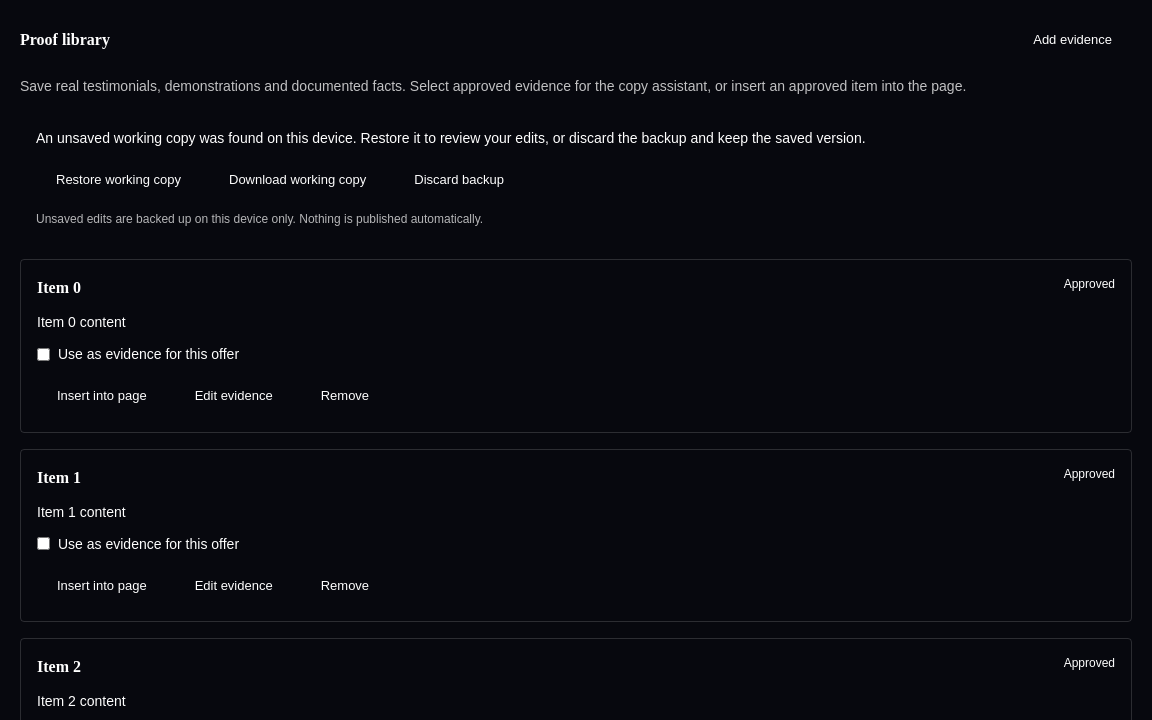
Test: proof library editing › offers recovery of unsaved evidence after remount without saving or inserting it
The width and height of the screenshot is (1152, 720).
Earlier steps of the test are not shown.
Click the button "Restore working copy" at (118, 179), box [36, 160, 201, 199]
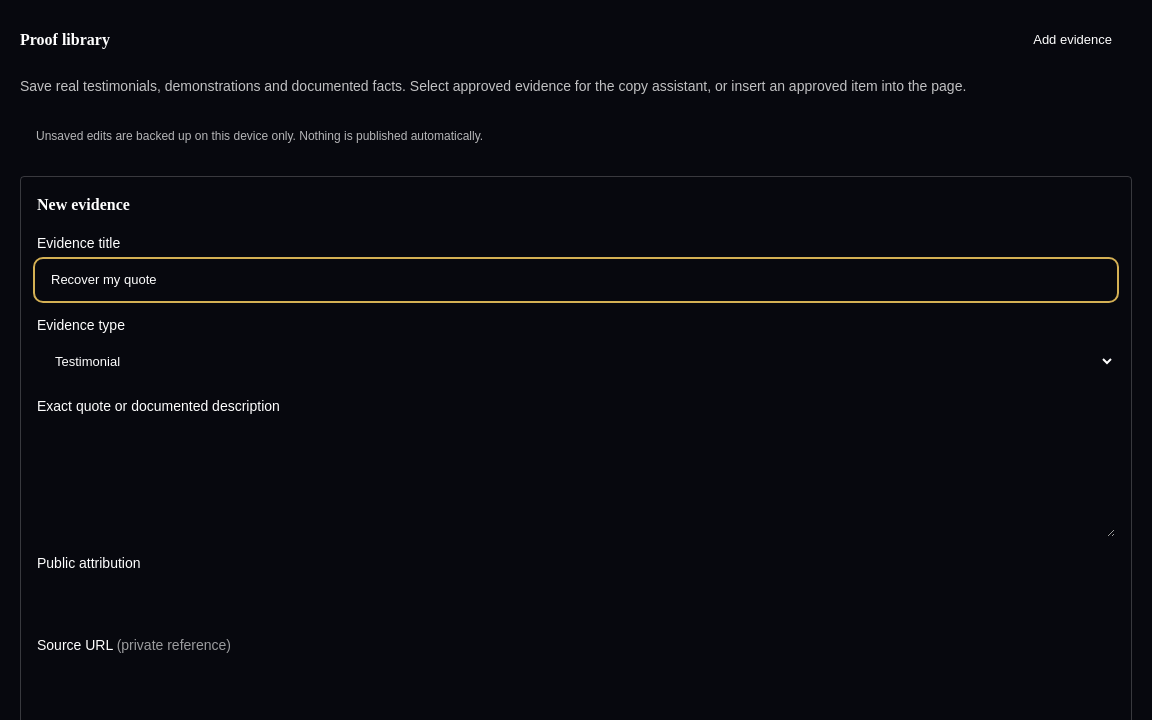
Check: the field labelled "Evidence title" holds "Recover my quote", box [37, 260, 1115, 299]
